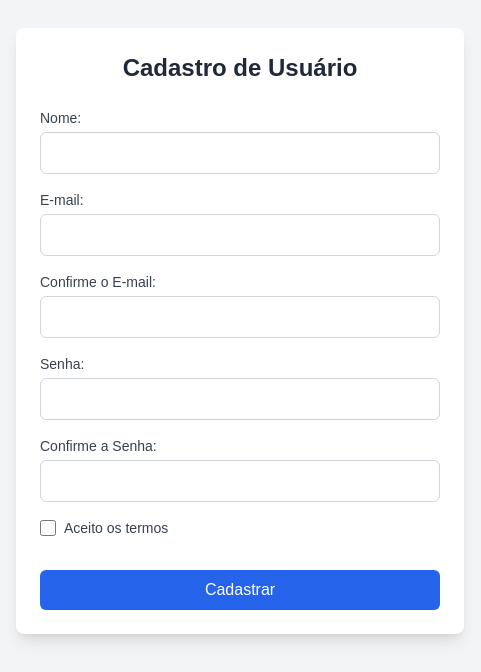
Test case: Teste de Cadastro de Usuário › Deve exibir erro ao digitar e-mails diferentes
Type "Usuário Teste" into the field named "nome" below "Nome:" at x=240, y=153, box [40, 132, 440, 174]
Type "teste@email.com" into the 2nd field named "email" at x=240, y=235, box [40, 214, 440, 256]
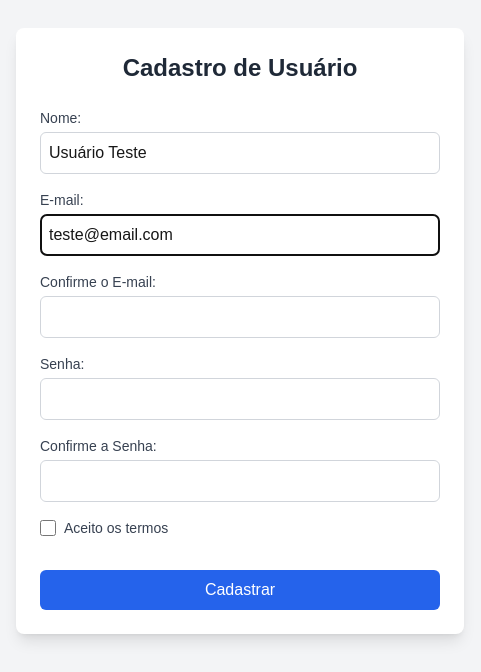
Type "diferente@email.com" into the field named "confirmacaoEmail" below "Confirme o E-mail:" at x=240, y=317, box [40, 296, 440, 338]
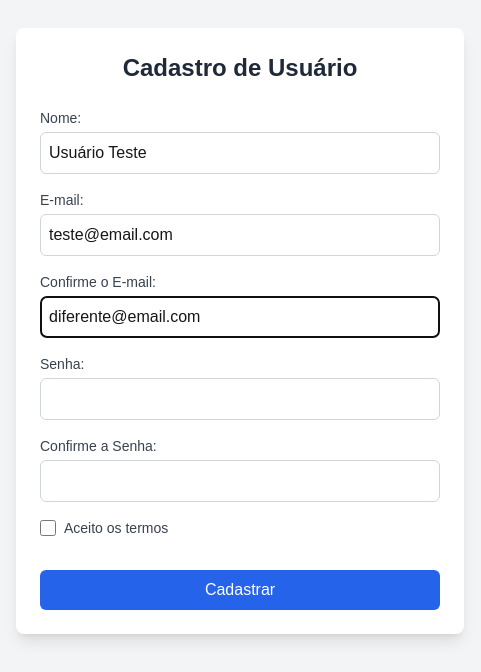
Type "Senha123" into the 1st password field named "senha" at x=240, y=399, box [40, 378, 440, 420]
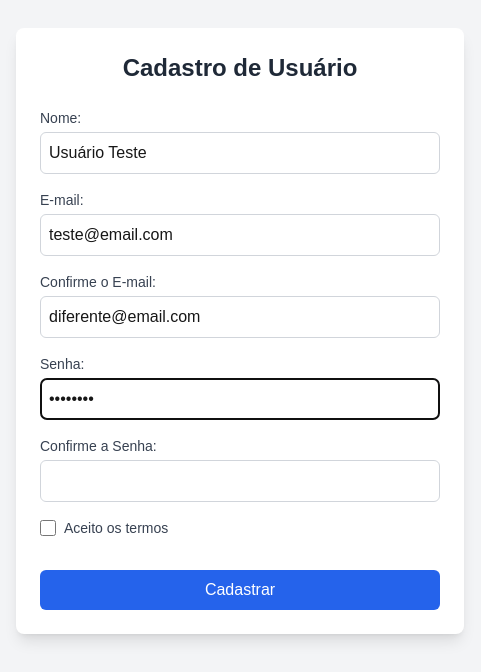
Type "Senha123" into the password field named "confirmacaoSenha" below "Confirme a Senha:" at x=240, y=481, box [40, 460, 440, 502]
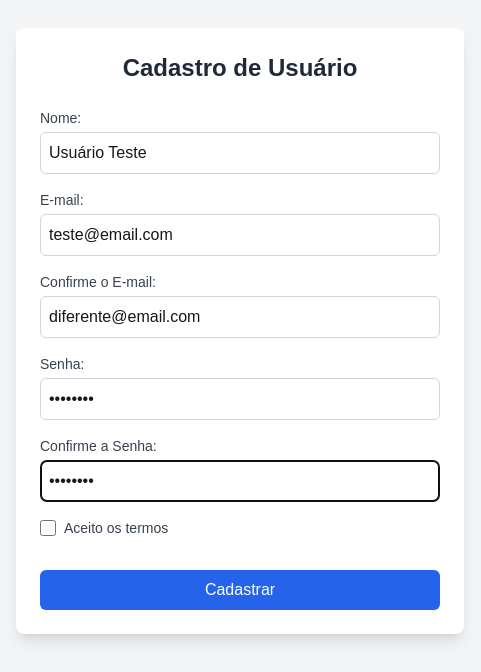
Check the checkbox named "termos" at x=48, y=528, box [40, 520, 56, 536]
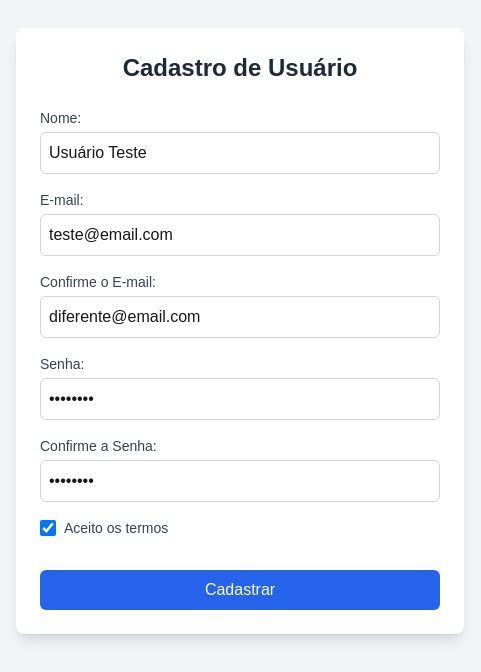
Click the submit button at x=240, y=590, box [40, 570, 440, 610]
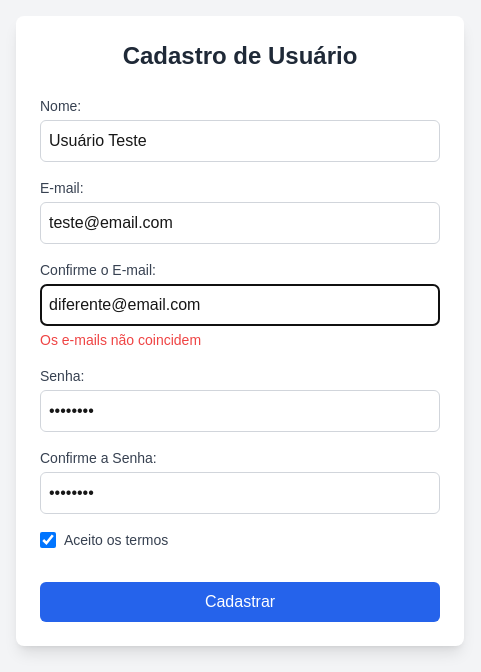
expect the text "Os e-mails não coincidem" is shown: met, box [40, 332, 201, 348]
